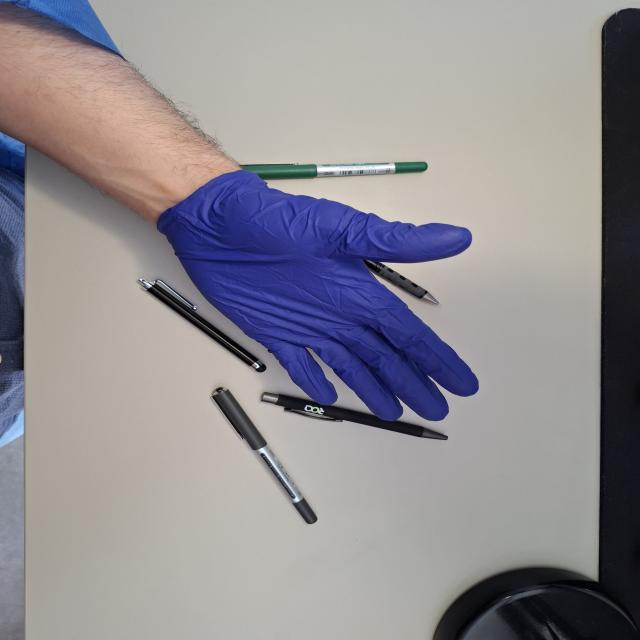glove_on: (155, 167, 484, 425)
